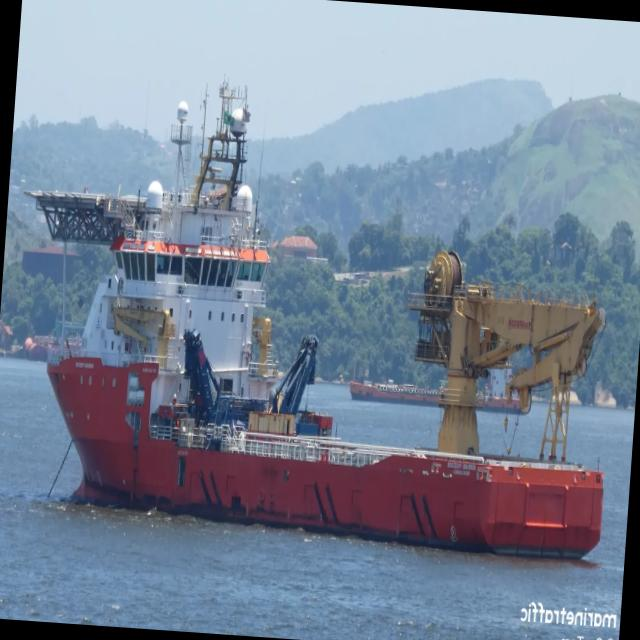Offshore: (27, 84, 604, 557)
